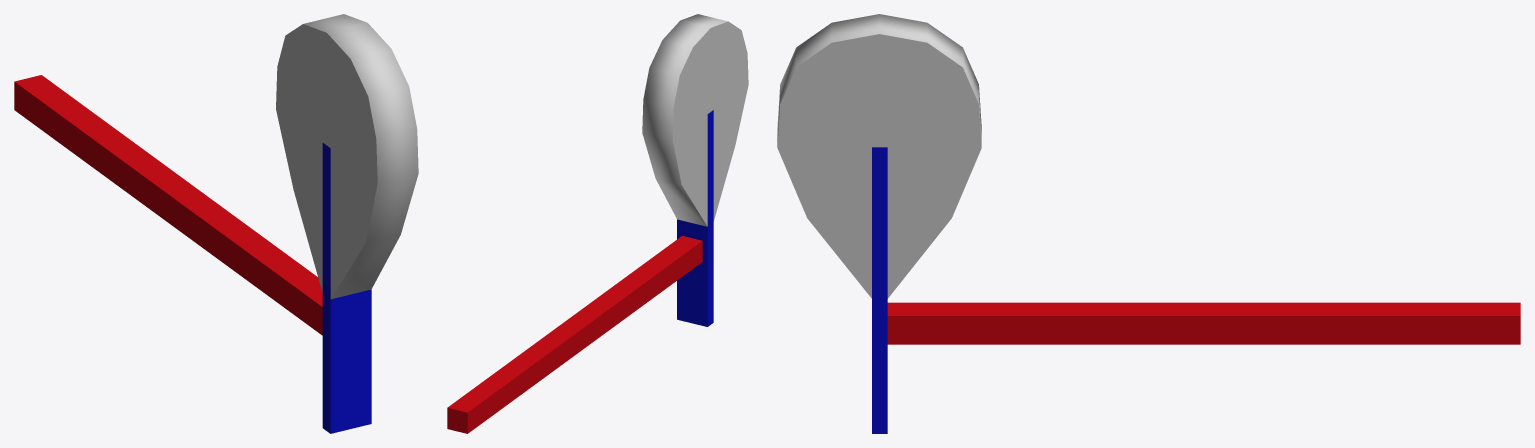
Rendered from asset.fbx.
3 renders of one model, left to right at view 1: azimuth 30°, elevation 25°; view 2: azimuth 150°, elevation 25°; view 3: azimuth 270°, elevation 25°, orthographic. The views are drawn at different scales.
Parts seen in each view (by area): view 1: Piano_Hammer; view 2: Piano_Hammer; view 3: Piano_Hammer.
Boxes of the visible parts, x1,y1,x2,y2 form: Piano_Hammer: [14, 14, 418, 433]; Piano_Hammer: [447, 14, 748, 433]; Piano_Hammer: [777, 14, 1520, 433].
Size of the model in its own units: 0.3 by 2.79 by 4.7.
